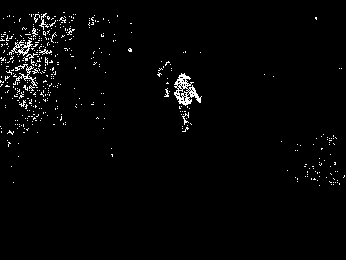person: (173, 72, 203, 136)
